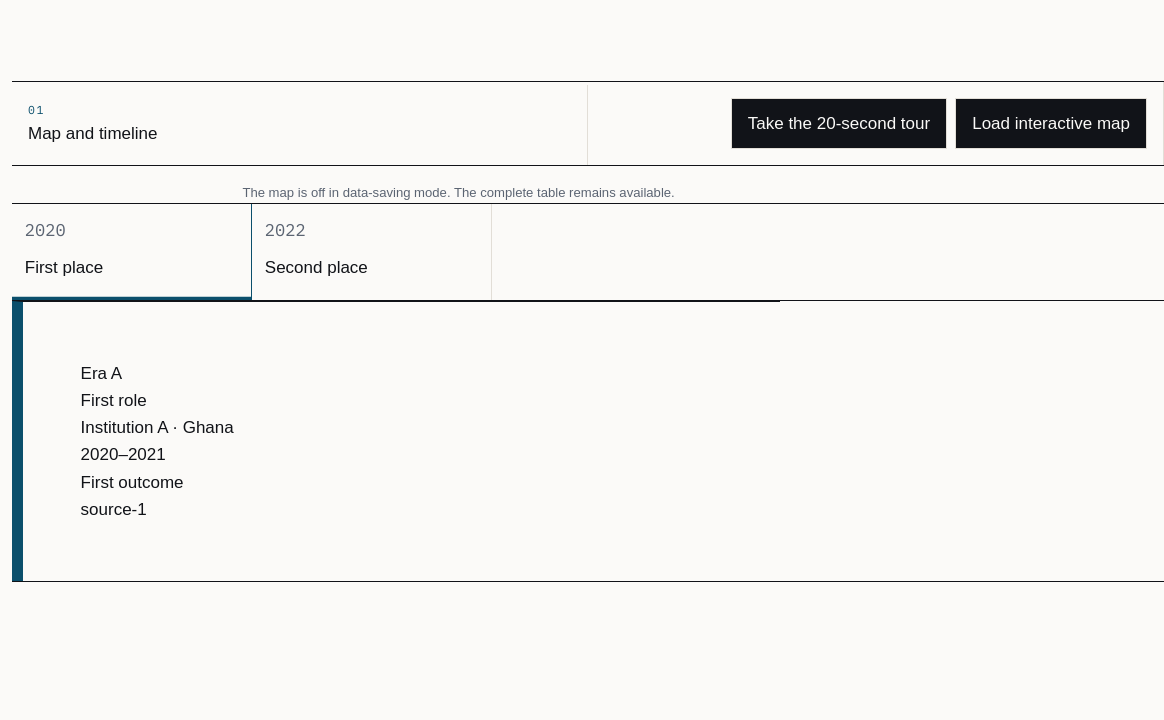
Test case: AtlasExplorer › announces tile-provider failure while preserving the timeline
Click the button "Load interactive map" at {"x": 1051, "y": 123}, box [955,98,1147,149]
(page scrolled)
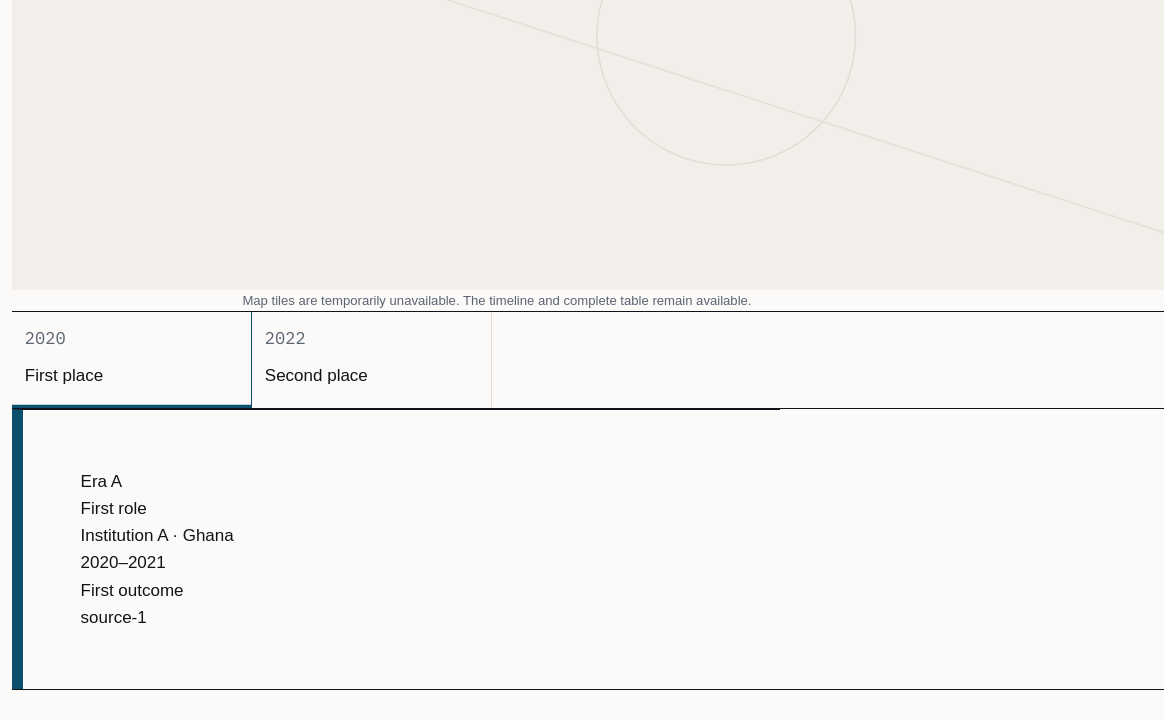
Check: the button "2022 Second place" is shown, box [252,312,492,408]
Check: the message shows "Map tiles are temporarily unavailable", box [242,293,752,308]
